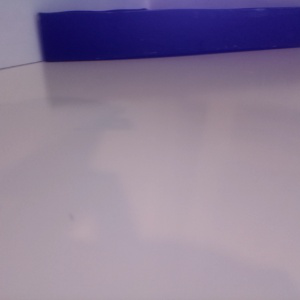zone: (39, 7, 300, 62)
